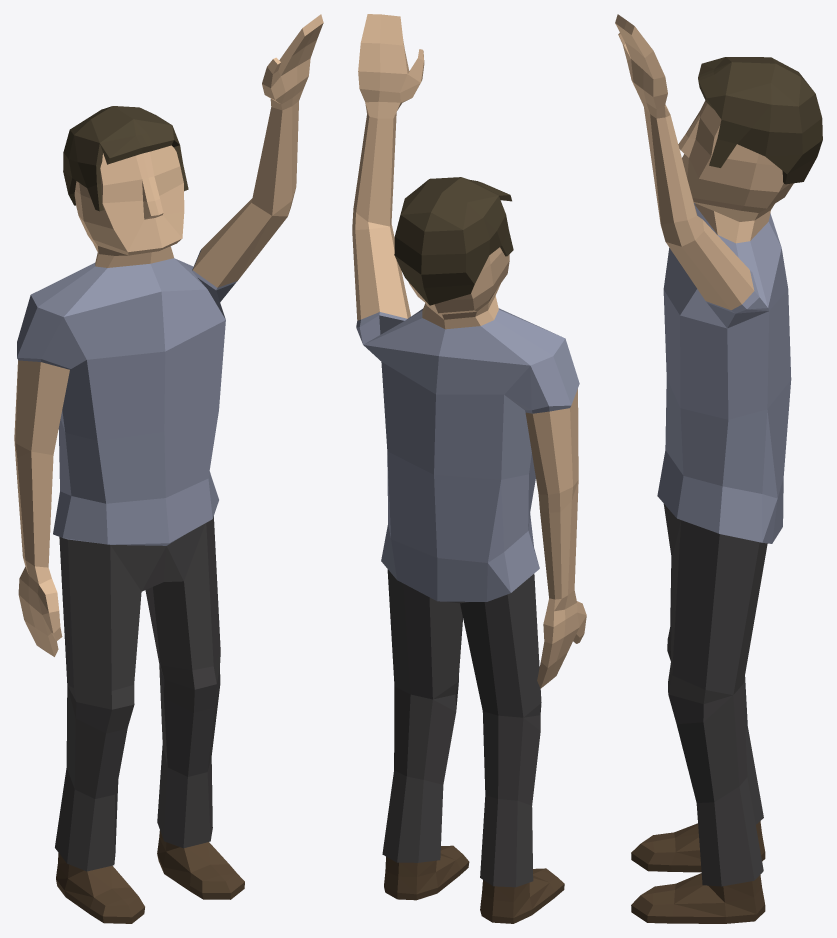
The model's file is Male_Crowd_LeftFistPump.glb.
3 views of the same model, side by side, from view 1: azimuth 30°, elevation 25°; view 2: azimuth 150°, elevation 25°; view 3: azimuth 270°, elevation 25° (orthographic). The views are drawn at different scales.
Visible parts, largest first — view 1: Male_Crowd_LeftFistPump; view 2: Male_Crowd_LeftFistPump; view 3: Male_Crowd_LeftFistPump.
Part boxes in pixels (<box>): Male_Crowd_LeftFistPump: <box>14,14,323,923</box>; Male_Crowd_LeftFistPump: <box>352,14,586,923</box>; Male_Crowd_LeftFistPump: <box>615,14,822,923</box>.
Size of the model in its own units: 0.6454 by 2.03 by 0.4096.
